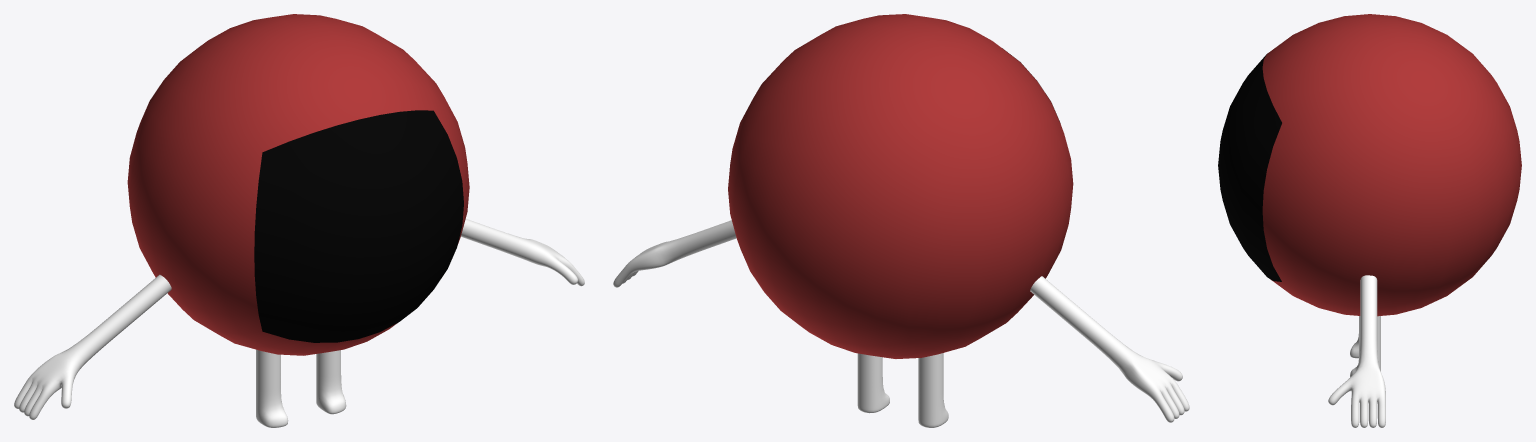
The model's file is MrBig.fbx.
The picture shows the model from 3 angles, left to right: view 1: azimuth 30°, elevation 25°; view 2: azimuth 150°, elevation 25°; view 3: azimuth 270°, elevation 25°; orthographic projection. The views are drawn at different scales.
Visible parts, largest first — view 1: MrBig, MrBig.001, Arms.007, Arms, Legs.007, Legs; view 2: MrBig, Arms.007, Arms, Legs.007, Legs; view 3: MrBig, MrBig.001, Arms, Legs.
Boxes of the visible parts, x1,y1,x2,y2 form: MrBig: (127,14,469,355); MrBig.001: (254,110,463,342); Arms.007: (14,274,171,419); Arms: (461,219,584,286); Legs.007: (256,349,288,427); Legs: (316,350,346,414); MrBig: (728,14,1073,358); Arms.007: (1030,276,1189,422); Arms: (613,220,736,287); Legs.007: (918,353,948,427); Legs: (857,353,889,413); MrBig: (1262,14,1521,316); MrBig.001: (1218,53,1281,281); Arms: (1328,275,1385,427); Legs: (1350,316,1380,377).
Bounding box in the file's own units: 3.74 × 2 × 2.47.
